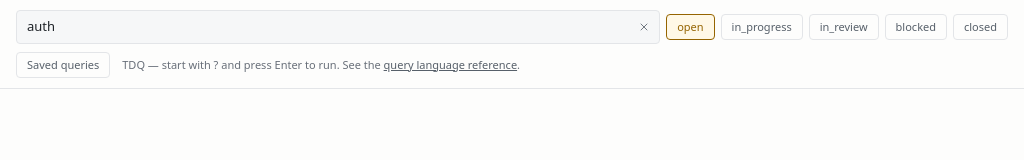
Test: IssueFilters › the clear button › empties the box and the params on the click, without waiting for the debounce
Click the button named "Clear search" at (644, 27), box [634,17,654,37]
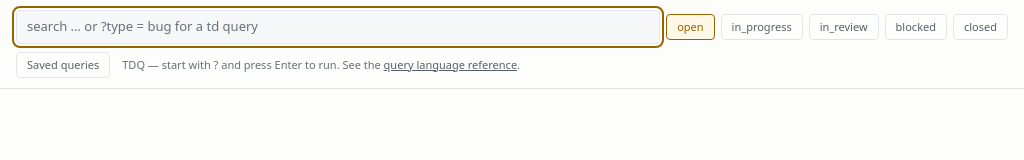
Expected: the search field labelled "search" is empty, [16,10,660,44]
